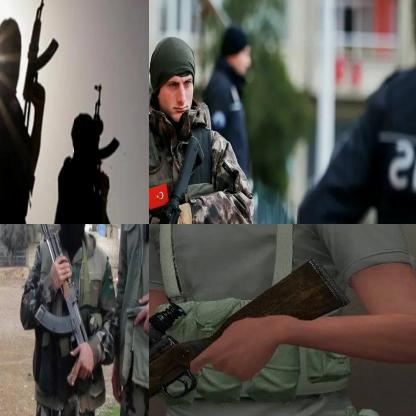pistol: (121, 304, 148, 346)
rifle: (149, 253, 353, 415), (30, 224, 94, 383), (149, 133, 207, 223), (21, 0, 60, 110), (91, 82, 119, 208)
